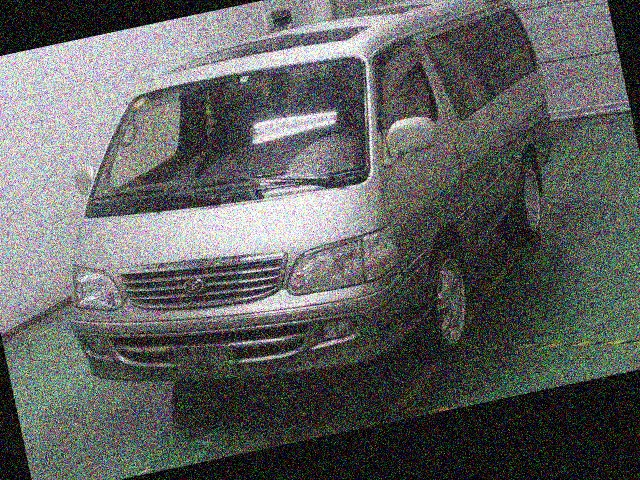van: (3, 0, 595, 450)
